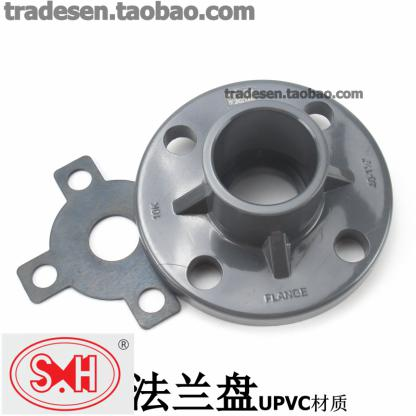FOD: (133, 70, 398, 328)
